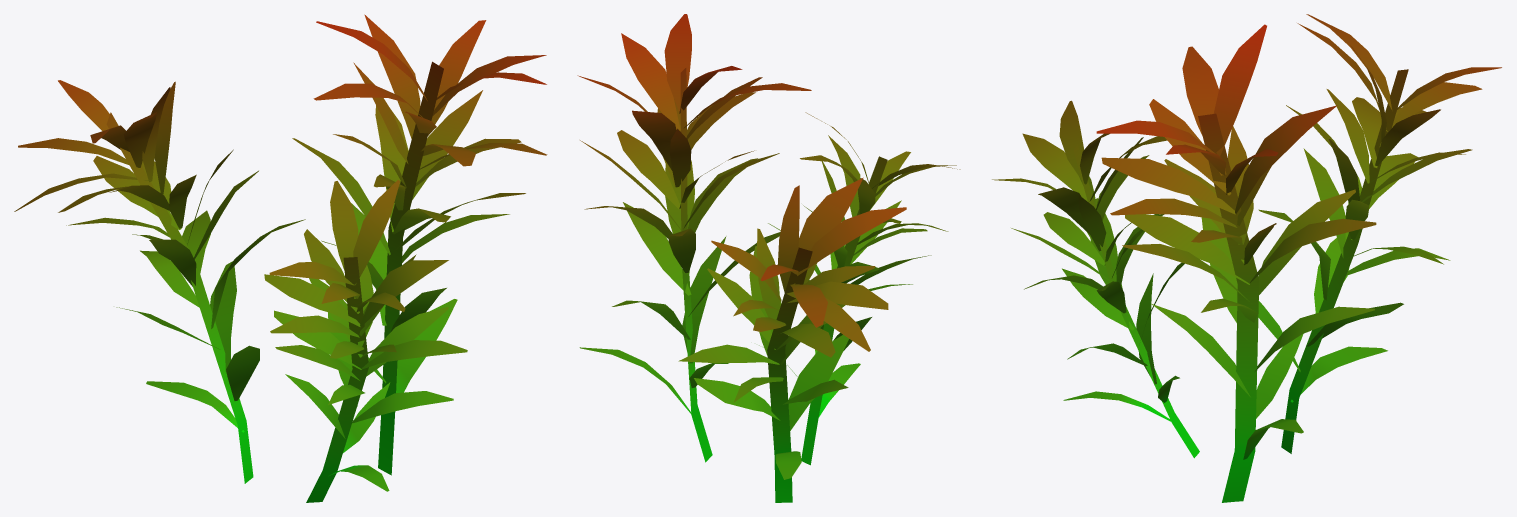
The model's file is Goldenrods_LOD5_Var6.fbx.
The picture shows the model from 3 angles, left to right: view 1: azimuth 30°, elevation 25°; view 2: azimuth 150°, elevation 25°; view 3: azimuth 270°, elevation 25°; orthographic projection. The views are drawn at different scales.
Visible parts, largest first — view 1: _0q80_Var6_LOD5; view 2: _0q80_Var6_LOD5; view 3: _0q80_Var6_LOD5.
Part boxes in pixels (x1=…): _0q80_Var6_LOD5: x1=14, y1=14, x2=547, y2=502; _0q80_Var6_LOD5: x1=577, y1=14, x2=960, y2=502; _0q80_Var6_LOD5: x1=992, y1=14, x2=1501, y2=502.
Bounding box in the file's own units: 48.29 × 51.8 × 52.87.
